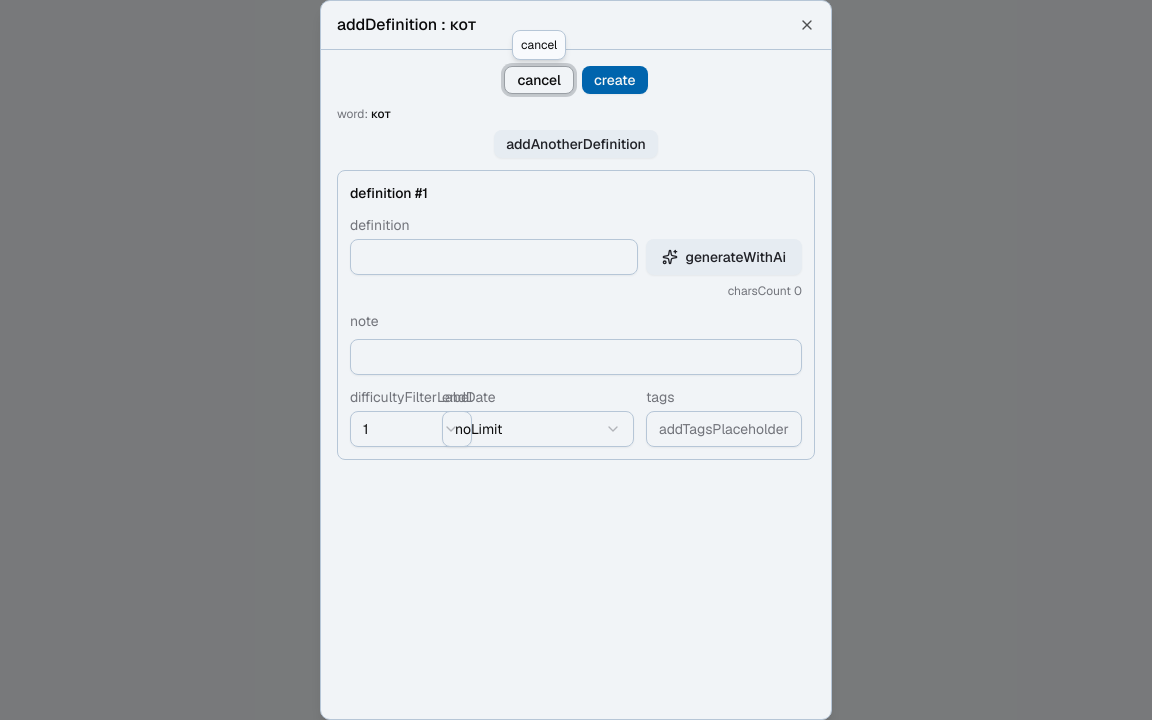
generated definition selection › filters duplicates against fetched definitions and within the generated batch (mobile=true)
Click the button with aria-label "generateWithAiTooltip" at (724, 257), box [646, 239, 802, 275]
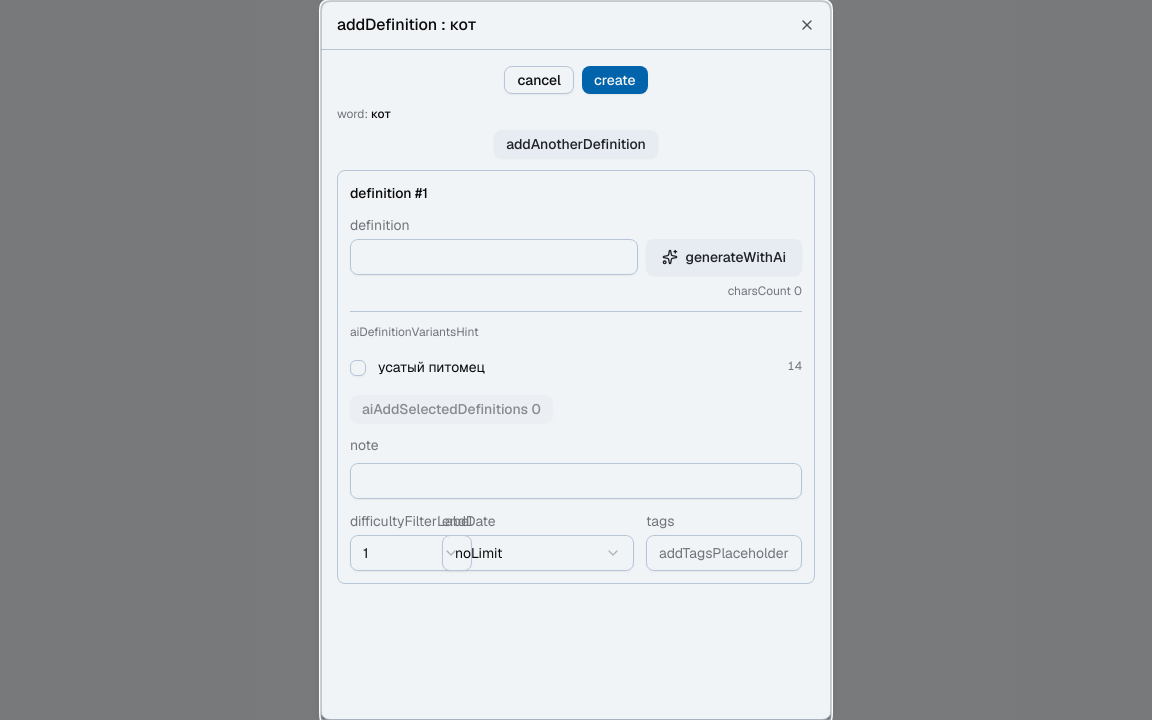
Check: the number of checkboxes is 1, box [350, 360, 366, 376]
